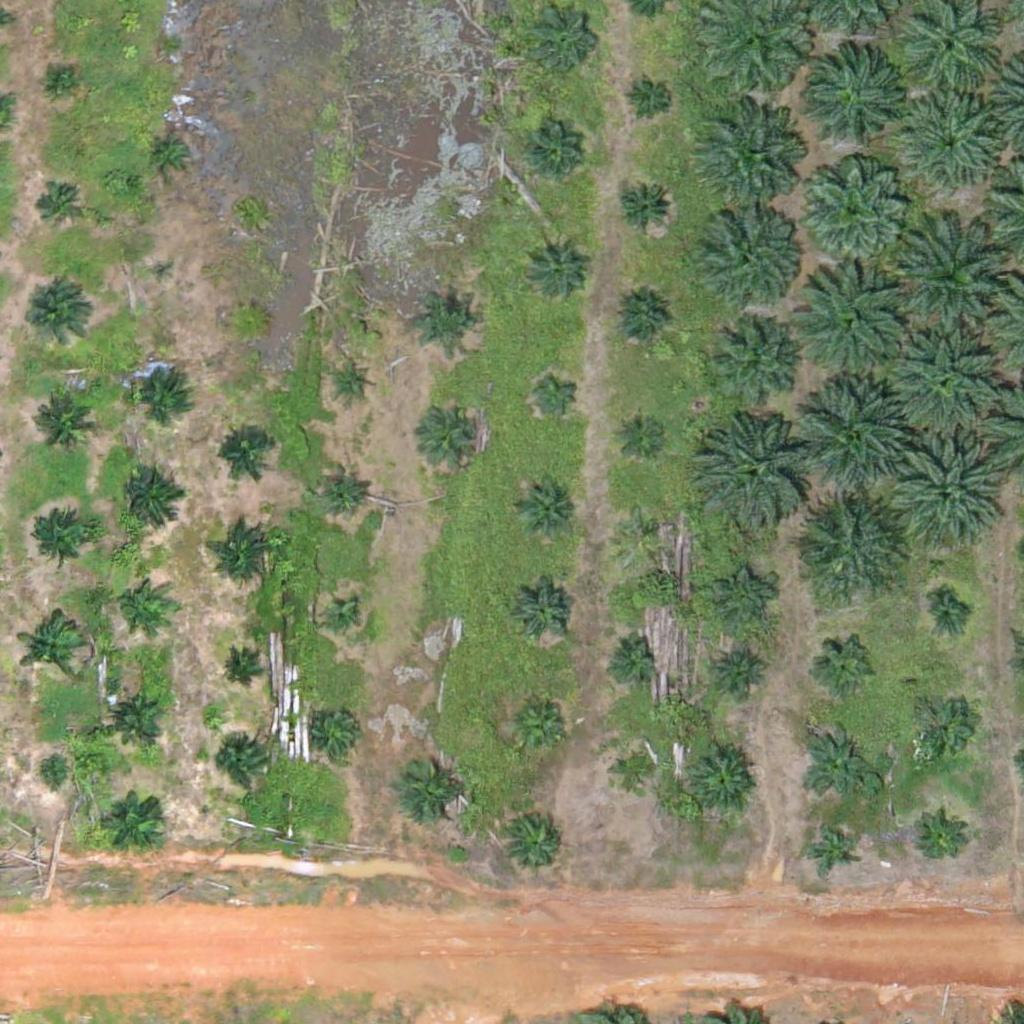Kelapa_Sawit: (893, 216, 1018, 342), (691, 410, 816, 536), (888, 324, 1001, 438), (798, 269, 911, 383), (796, 154, 909, 268), (886, 433, 999, 546), (799, 375, 912, 488), (790, 490, 903, 603), (693, 105, 805, 219), (699, 203, 799, 304), (903, 93, 1003, 193), (807, 47, 907, 147), (709, 320, 797, 408), (24, 510, 99, 586), (20, 282, 95, 358), (28, 384, 103, 460), (395, 752, 470, 828), (16, 612, 91, 688), (684, 742, 759, 817), (800, 724, 875, 799), (425, 403, 488, 466), (414, 287, 477, 350), (129, 359, 192, 422), (106, 789, 169, 852), (105, 684, 168, 747), (523, 126, 586, 189), (512, 475, 575, 538), (512, 580, 575, 643), (505, 812, 568, 875), (908, 694, 971, 757), (505, 694, 568, 757), (613, 176, 676, 239), (215, 521, 277, 584), (214, 421, 276, 484), (118, 467, 181, 529), (524, 237, 586, 300), (712, 567, 774, 630), (816, 636, 878, 699), (610, 288, 672, 351), (914, 816, 964, 867), (718, 645, 768, 696), (807, 825, 857, 876), (616, 405, 666, 456), (615, 502, 665, 553), (605, 631, 655, 682), (531, 367, 581, 418), (33, 181, 83, 232), (114, 576, 164, 626), (215, 739, 265, 789), (315, 706, 365, 756), (609, 747, 659, 797), (317, 465, 367, 515), (625, 75, 675, 125), (147, 129, 197, 179), (334, 363, 372, 401), (324, 601, 362, 639), (33, 755, 71, 793), (231, 303, 269, 341), (929, 597, 966, 635), (219, 652, 256, 690), (47, 67, 72, 93), (151, 257, 176, 282)
